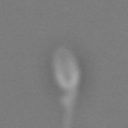abnormal: (55, 87, 83, 128)
